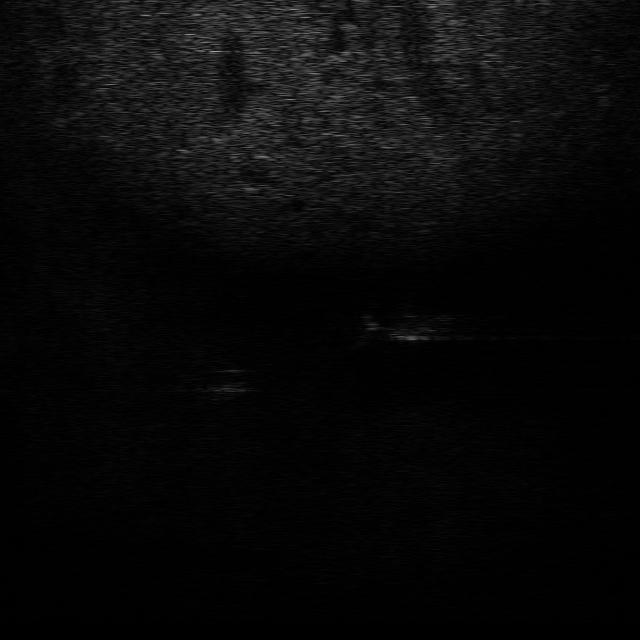ball: (201, 363, 259, 394)
human body: (352, 308, 462, 348)
